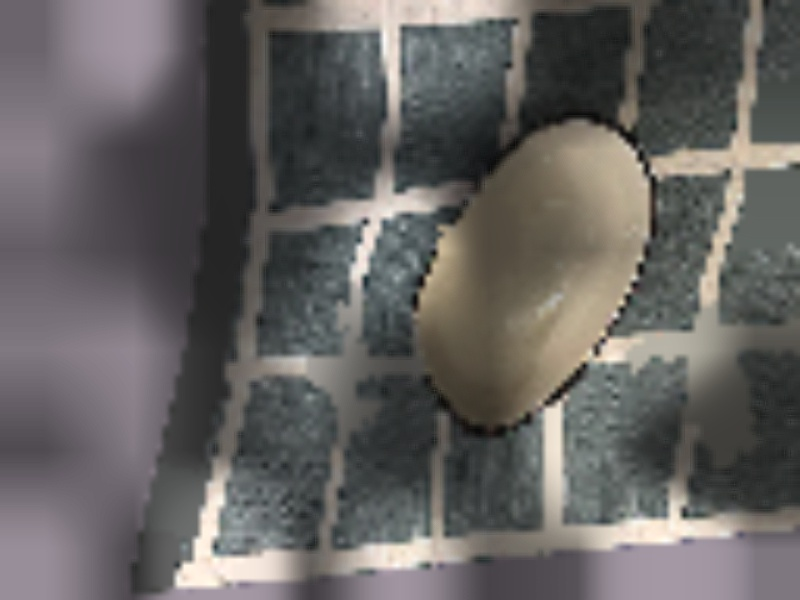bowl_small: (385, 90, 690, 447)
